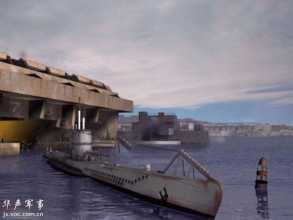warship: (38, 106, 222, 214)
